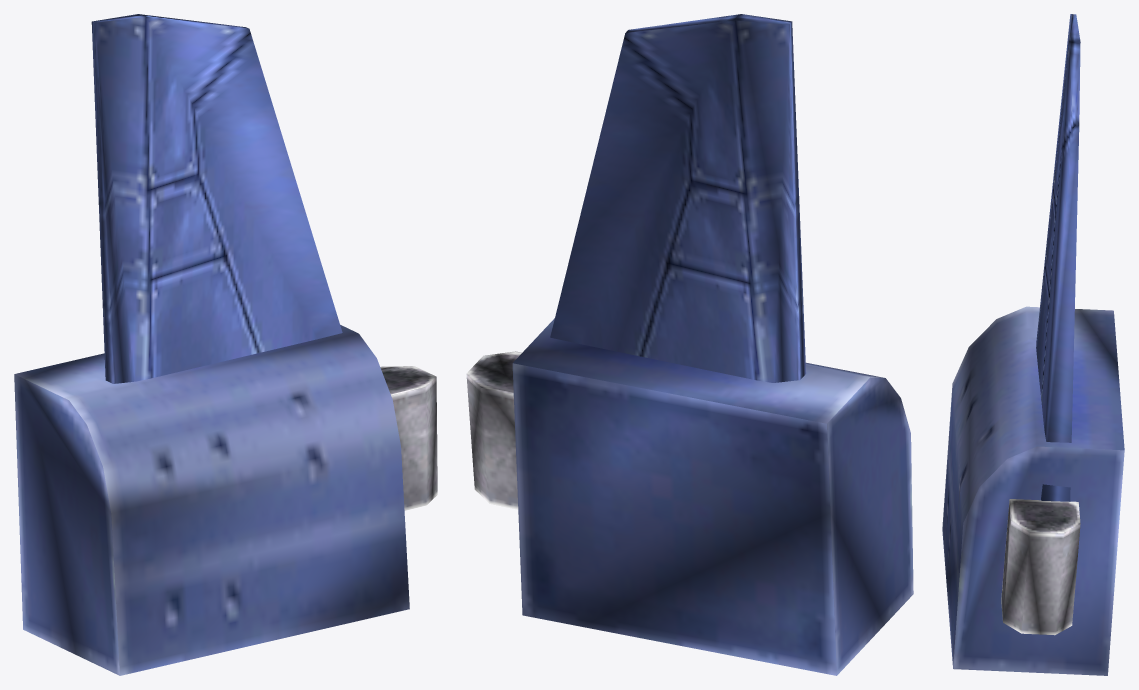
The model's file is Robot01.RightForeArm1.fbx.
The picture shows the model from 3 angles, left to right: view 1: azimuth 30°, elevation 25°; view 2: azimuth 150°, elevation 25°; view 3: azimuth 270°, elevation 25°; orthographic projection. The views are drawn at different scales.
Parts seen in each view (by area): view 1: Robot01.RightForeArm1; view 2: Robot01.RightForeArm1; view 3: Robot01.RightForeArm1.
Part boxes in pixels (x1,y1,x2,y2): Robot01.RightForeArm1: (14,14,437,675); Robot01.RightForeArm1: (466,14,913,675); Robot01.RightForeArm1: (942,14,1124,675).
Bounding box in the file's own units: 39.62 × 61.65 × 18.31.
